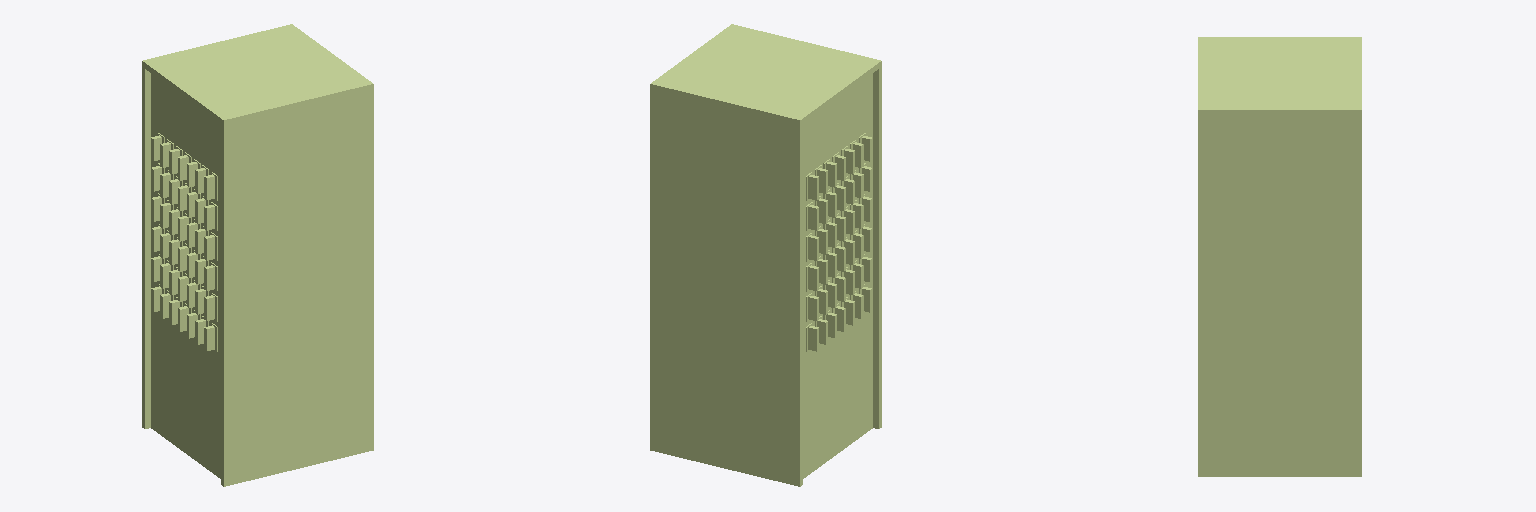
File: studio_databox3.obj
3 views of the same model, side by side, from view 1: azimuth 30°, elevation 25°; view 2: azimuth 150°, elevation 25°; view 3: azimuth 270°, elevation 25° (orthographic).
Visible parts, largest first — view 1: Box010; view 2: Box010; view 3: Box010.
Part boxes in pixels (x1,y1,x2,y2): Box010: (142, 24, 373, 486); Box010: (650, 24, 881, 486); Box010: (1198, 37, 1361, 476).
Bounding box in the file's own units: 0.9614 × 2.19 × 0.8842.